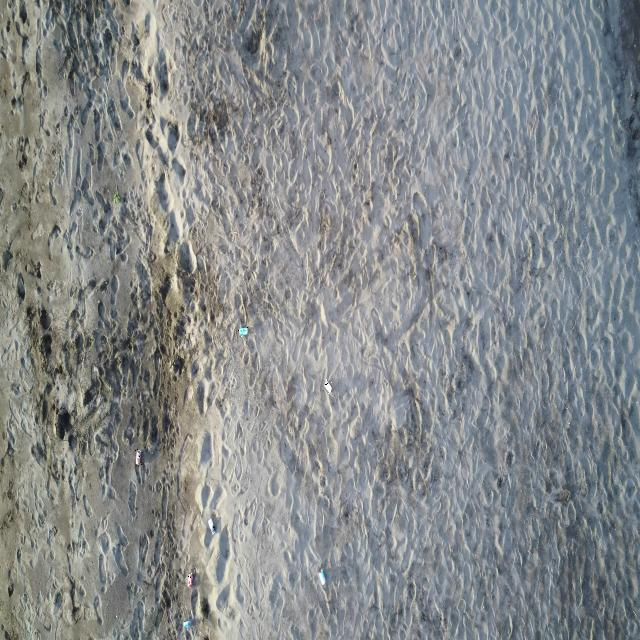tin-and-aluminum-cans: (208, 517, 216, 536), (324, 379, 332, 395), (135, 449, 142, 467), (238, 326, 249, 337), (319, 569, 326, 586), (187, 572, 193, 588), (183, 619, 191, 629)
